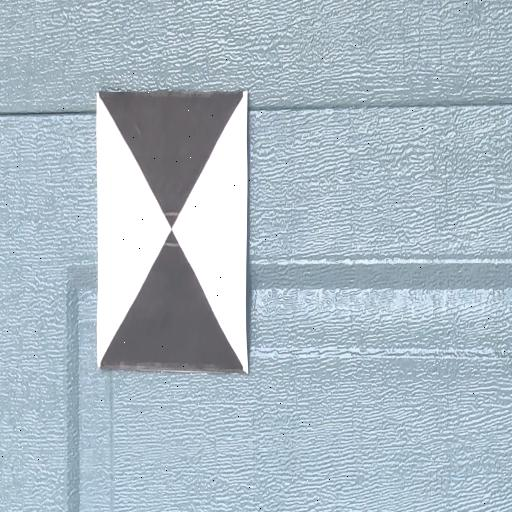target: (96, 93, 248, 370)
